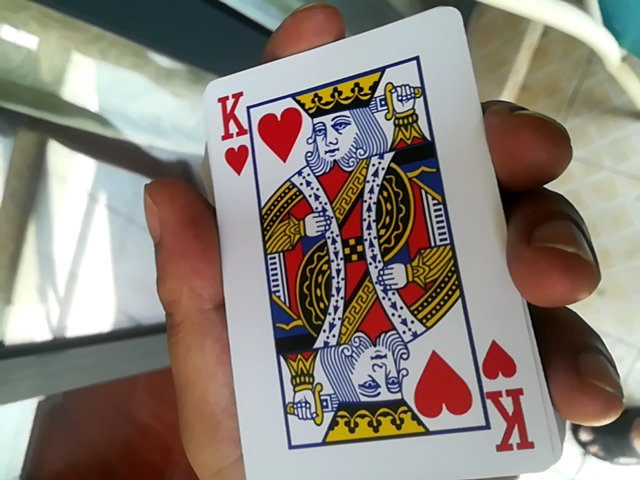hx k: (204, 10, 553, 474)
